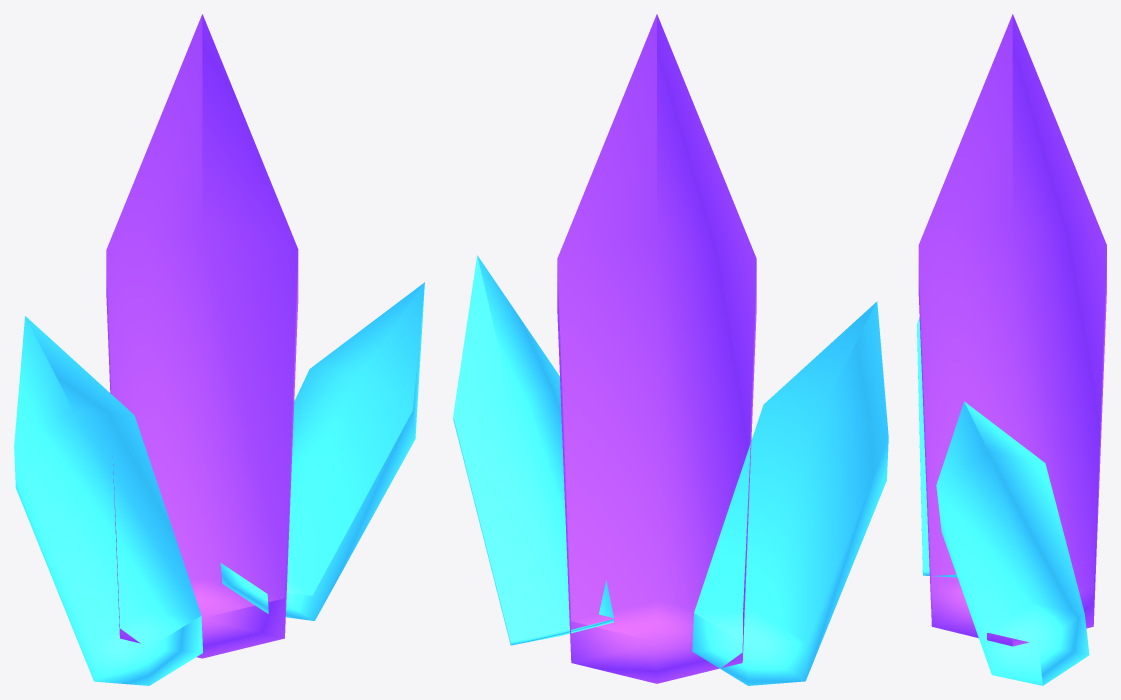
The model's file is giant_crystal.glb.
3 renders of one model, left to right at view 1: azimuth 30°, elevation 25°; view 2: azimuth 150°, elevation 25°; view 3: azimuth 270°, elevation 25°, orthographic. The views are drawn at different scales.
Parts seen in each view (by area): view 1: GiantCrystal; view 2: GiantCrystal; view 3: GiantCrystal.
Part boxes in pixels (x1,y1,x2,y2): GiantCrystal: [14, 14, 424, 685]; GiantCrystal: [453, 14, 888, 685]; GiantCrystal: [917, 14, 1106, 685].
Bounding box in the file's own units: 2.71 × 3.98 × 1.12.
